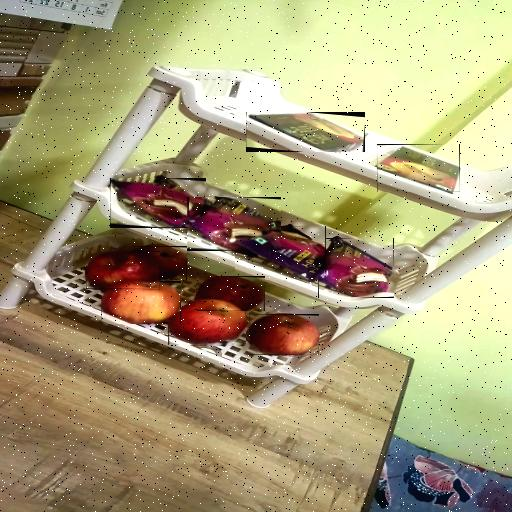Apple: (101, 281, 181, 324), (168, 302, 246, 346), (249, 314, 319, 355), (86, 251, 160, 289), (197, 276, 264, 311), (133, 246, 187, 280)
Choco Fills: (246, 112, 365, 152), (377, 144, 460, 192)
Choco Pie: (188, 197, 281, 251), (235, 226, 326, 280), (110, 178, 206, 228), (318, 238, 394, 298)
